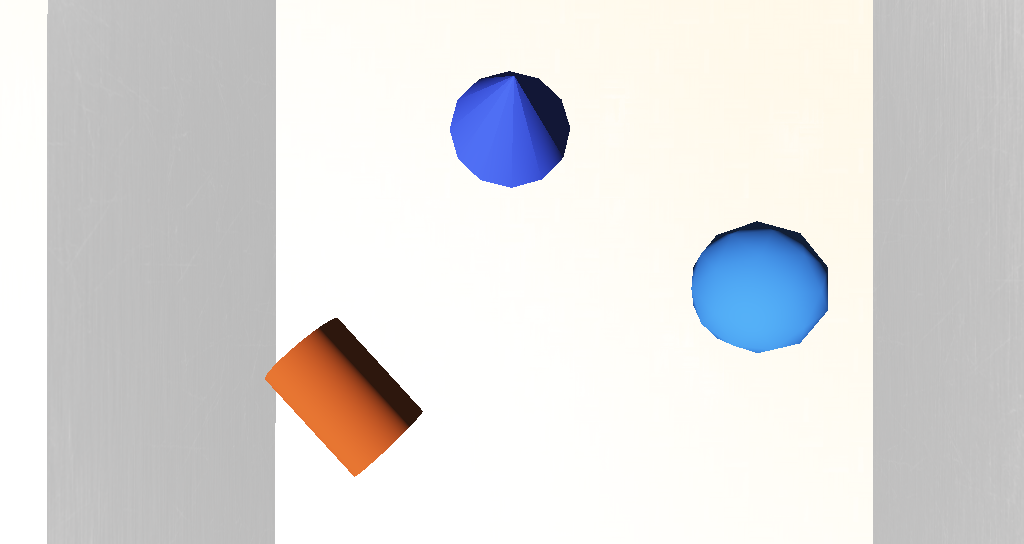cone: (350, 282, 431, 339)
cylinder: (438, 181, 505, 239)
sphere: (563, 248, 623, 296)
